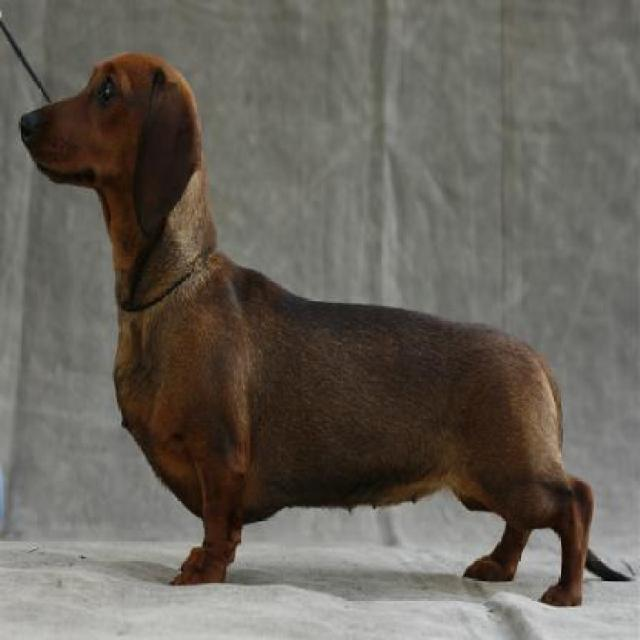Dog: (19, 49, 636, 608)
